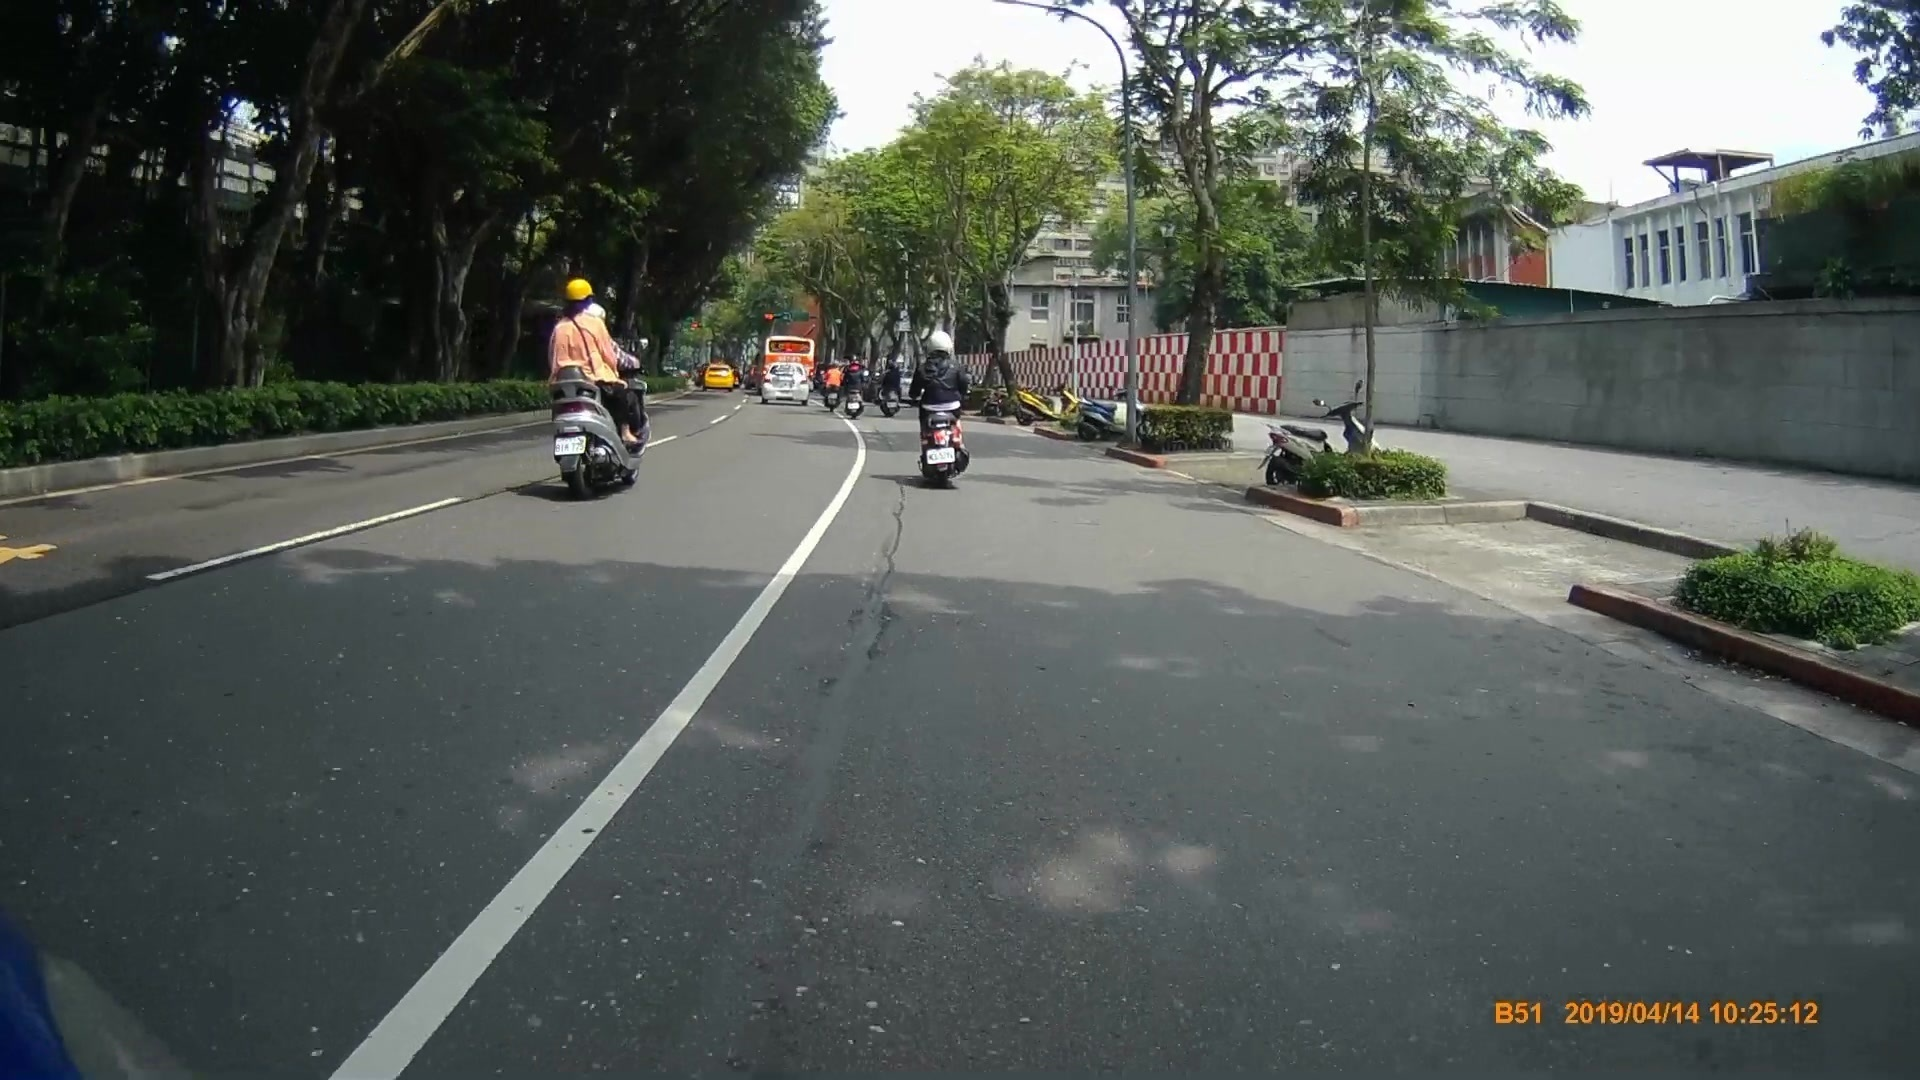License_plate: (552, 437, 589, 456), (925, 444, 957, 466)
